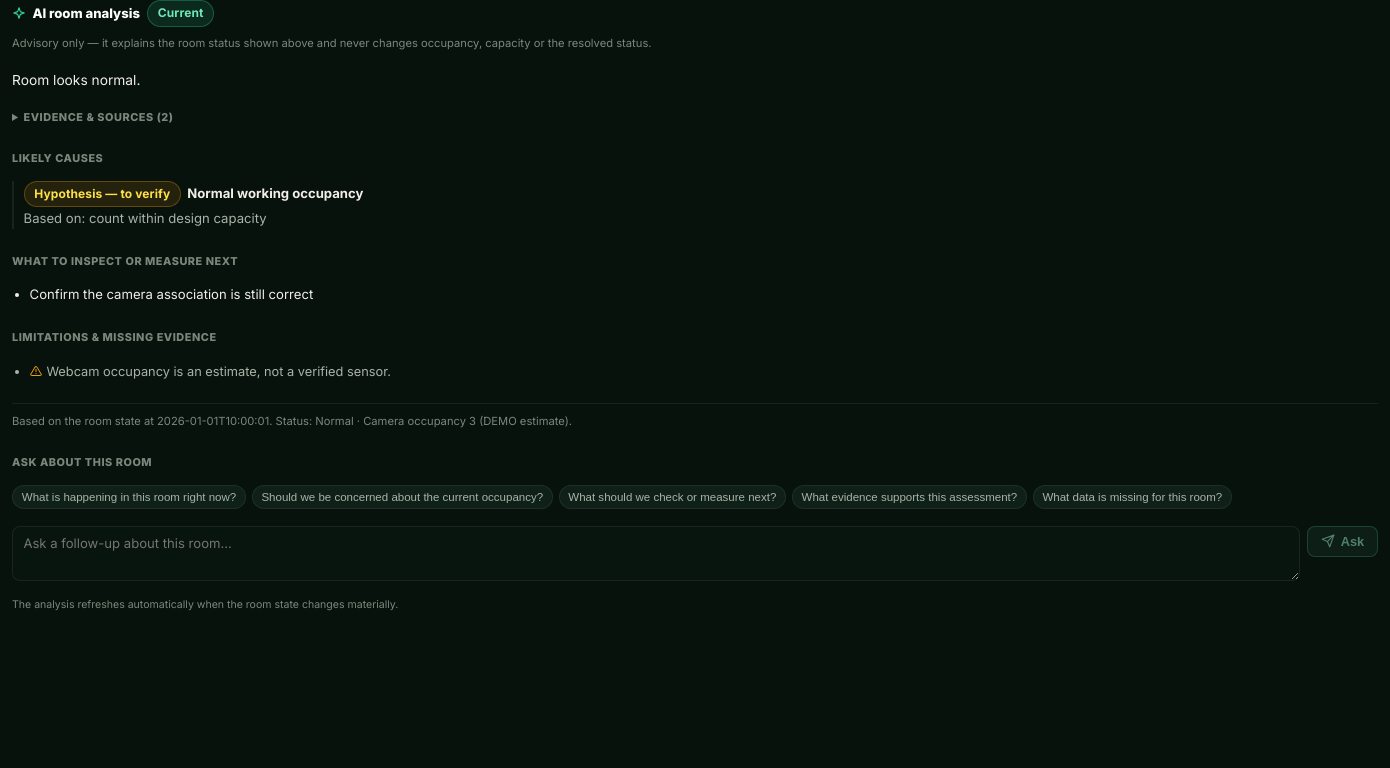
Test case: RoomAnalysis — in-workflow follow-ups › keeps follow-ups scoped to this room and renders the answer
Check: the text "Room looks normal." is shown, box [12,72,140,88]
Type "Why is occupancy over capacity?" into the text box with test id "room-ai-followup-input" at (656, 553), box [12,526,1300,581]
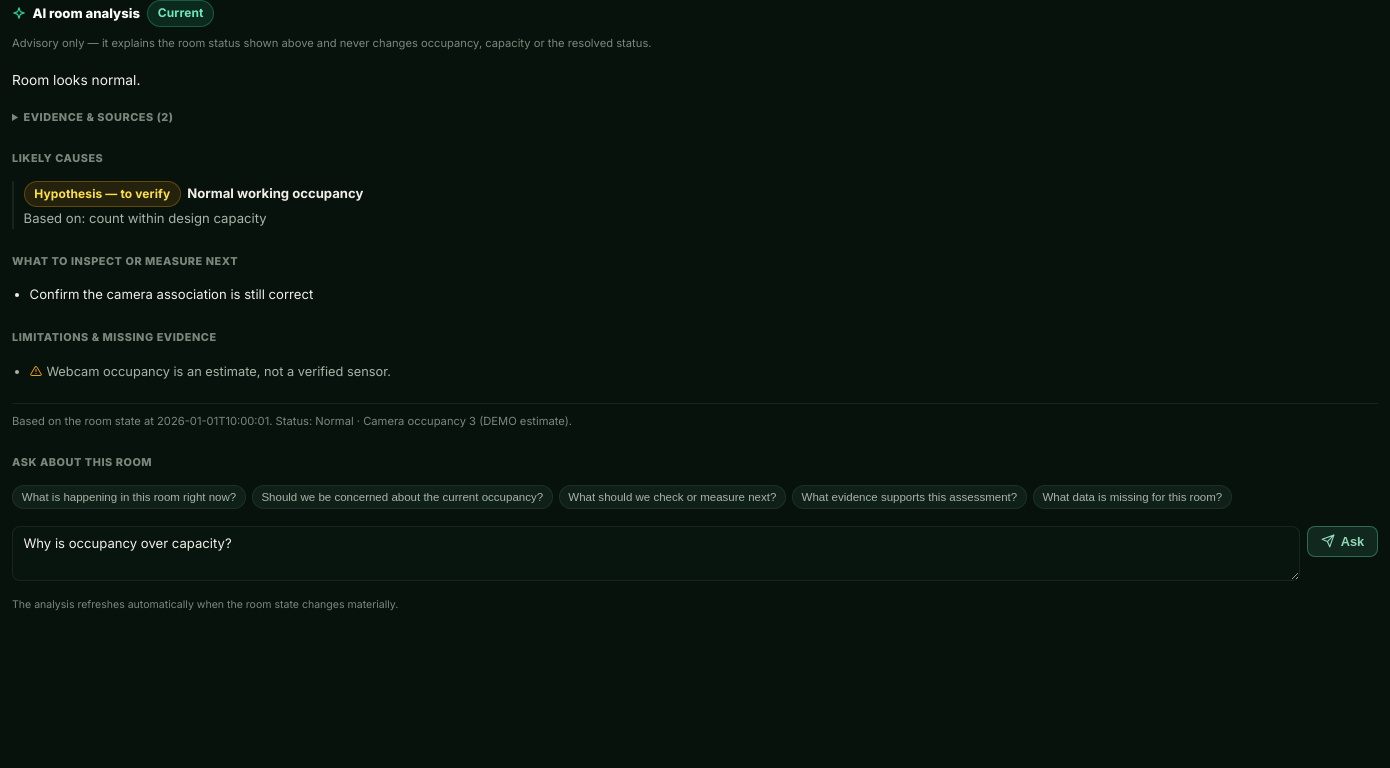
Click the button with test id "room-ai-followup-send" at (1343, 541), box [1307,526,1378,557]
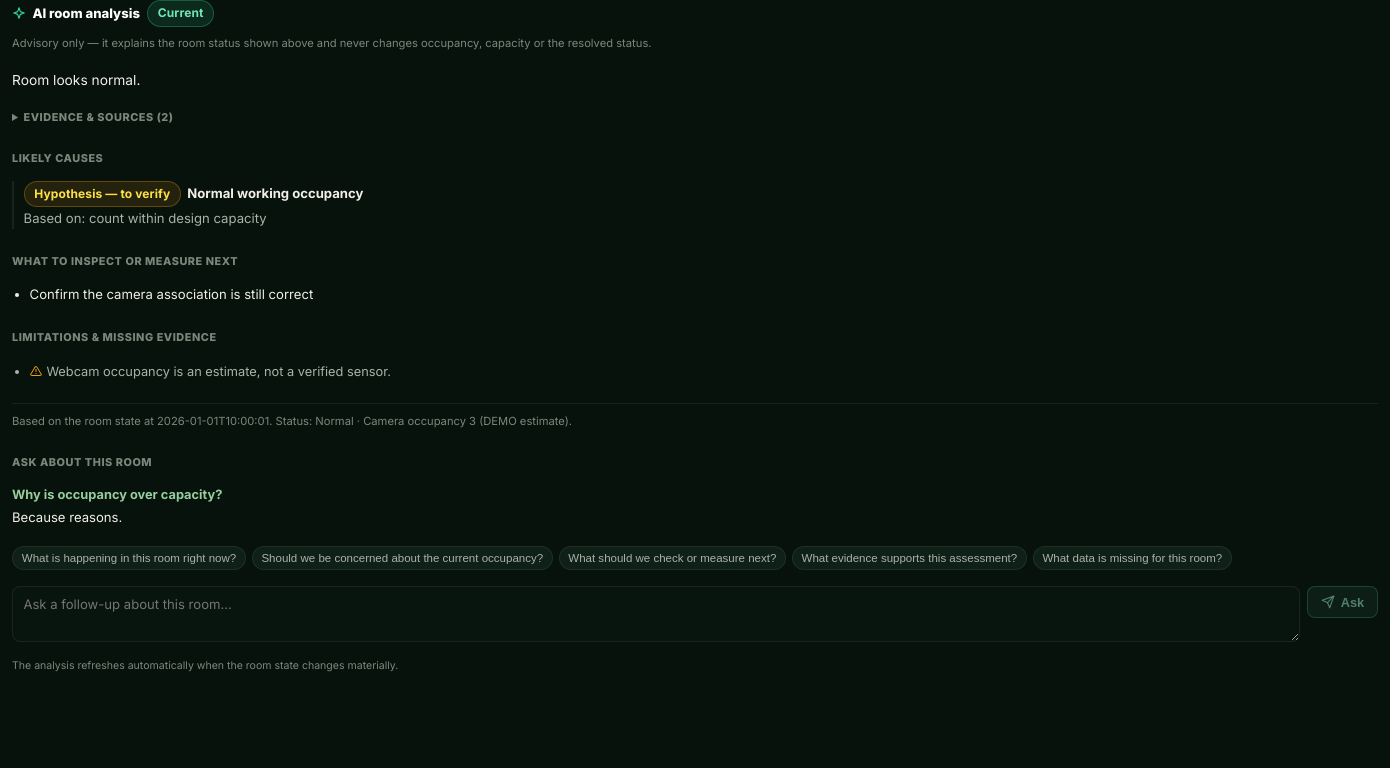
Check: the text with test id "room-ai-followup-answer" reads "Because reasons.", box [12,510,122,526]
Check: the text "Why is occupancy over capacity?" is shown, box [12,487,222,502]
